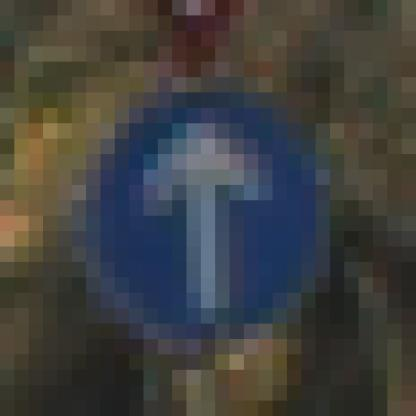AheadOnly: (73, 78, 345, 340)
